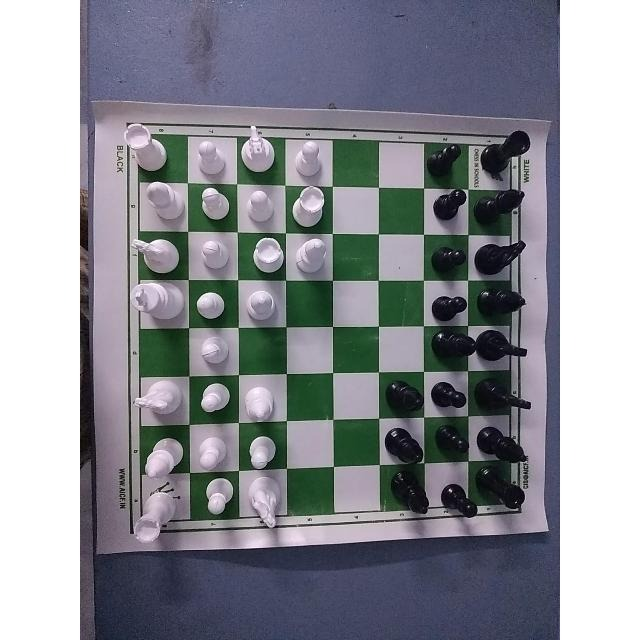black-bishop: (481, 418, 541, 468), (475, 280, 528, 324), (434, 323, 476, 375), (388, 373, 428, 421), (384, 420, 423, 468), (482, 186, 524, 226), (393, 468, 427, 515)
black-knight: (478, 379, 543, 414), (482, 233, 534, 274), (485, 329, 531, 370)
black-pawn: (436, 473, 475, 530), (434, 420, 470, 462), (436, 185, 471, 227), (431, 137, 465, 177), (429, 290, 471, 322), (435, 240, 469, 279), (435, 380, 469, 415)
black-rook: (477, 468, 533, 519), (484, 132, 534, 180)
white-bishop: (135, 177, 186, 227), (139, 439, 184, 485), (294, 234, 334, 283), (241, 283, 287, 325), (242, 381, 282, 425)
white-king: (126, 283, 186, 327)
white-knight: (127, 232, 189, 277), (246, 478, 288, 535), (237, 121, 278, 174), (136, 379, 182, 425)
white-pawn: (189, 131, 233, 177), (193, 328, 233, 376), (194, 185, 234, 229), (192, 285, 232, 325), (197, 234, 233, 278), (202, 475, 238, 516), (196, 379, 232, 419), (250, 427, 282, 471), (243, 186, 277, 226), (196, 433, 230, 471), (297, 141, 331, 177)
white-rook: (131, 489, 187, 541), (286, 183, 334, 230), (122, 124, 171, 168), (251, 234, 287, 277)
